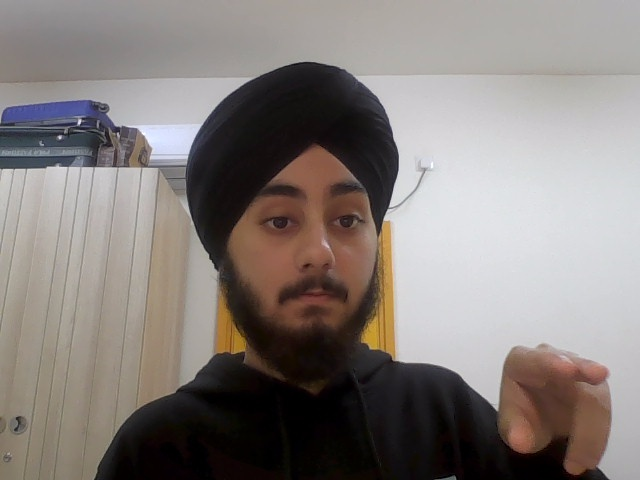No: (495, 335, 631, 478)
